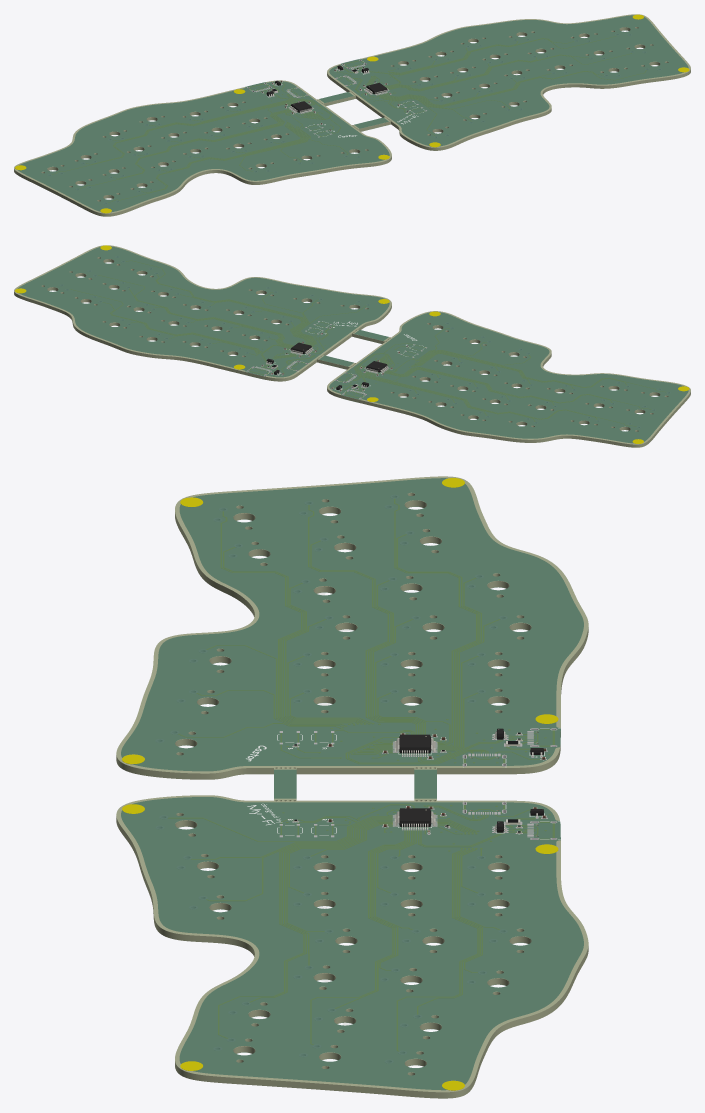
3 renders of one model, top to bottom at view 1: azimuth 30°, elevation 25°; view 2: azimuth 150°, elevation 25°; view 3: azimuth 270°, elevation 25°, orthographic. The views are drawn at different scales.
Visible parts, largest first — view 1: =>[0:1:1:19], =>[0:1:1:21], =>[0:1:1:15], =>[0:1:1:14]; view 2: =>[0:1:1:19], =>[0:1:1:21], =>[0:1:1:15], =>[0:1:1:14]; view 3: =>[0:1:1:19], =>[0:1:1:21], =>[0:1:1:14], =>[0:1:1:15].
Boxes of the visible parts, left/top/right/bottom form: =>[0:1:1:19]: left=18, top=15, right=688, bottom=212; =>[0:1:1:21]: left=14, top=14, right=690, bottom=216; =>[0:1:1:15]: left=48, top=34, right=660, bottom=203; =>[0:1:1:14]: left=15, top=14, right=689, bottom=213; =>[0:1:1:19]: left=17, top=246, right=688, bottom=443; =>[0:1:1:21]: left=14, top=245, right=690, bottom=447; =>[0:1:1:15]: left=60, top=256, right=669, bottom=427; =>[0:1:1:14]: left=15, top=245, right=689, bottom=443; =>[0:1:1:19]: left=121, top=478, right=583, bottom=1090; =>[0:1:1:21]: left=116, top=476, right=588, bottom=1098; =>[0:1:1:14]: left=122, top=478, right=558, bottom=1090; =>[0:1:1:15]: left=156, top=495, right=557, bottom=1062.
Size of the model in its own units: 0.3191 by 0.00322 by 0.1034.
